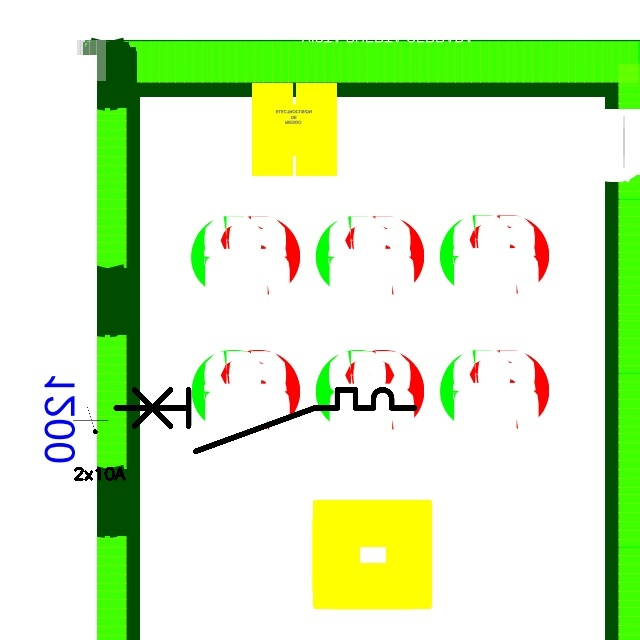interruptor_termomagnetico: (108, 382, 422, 459)
